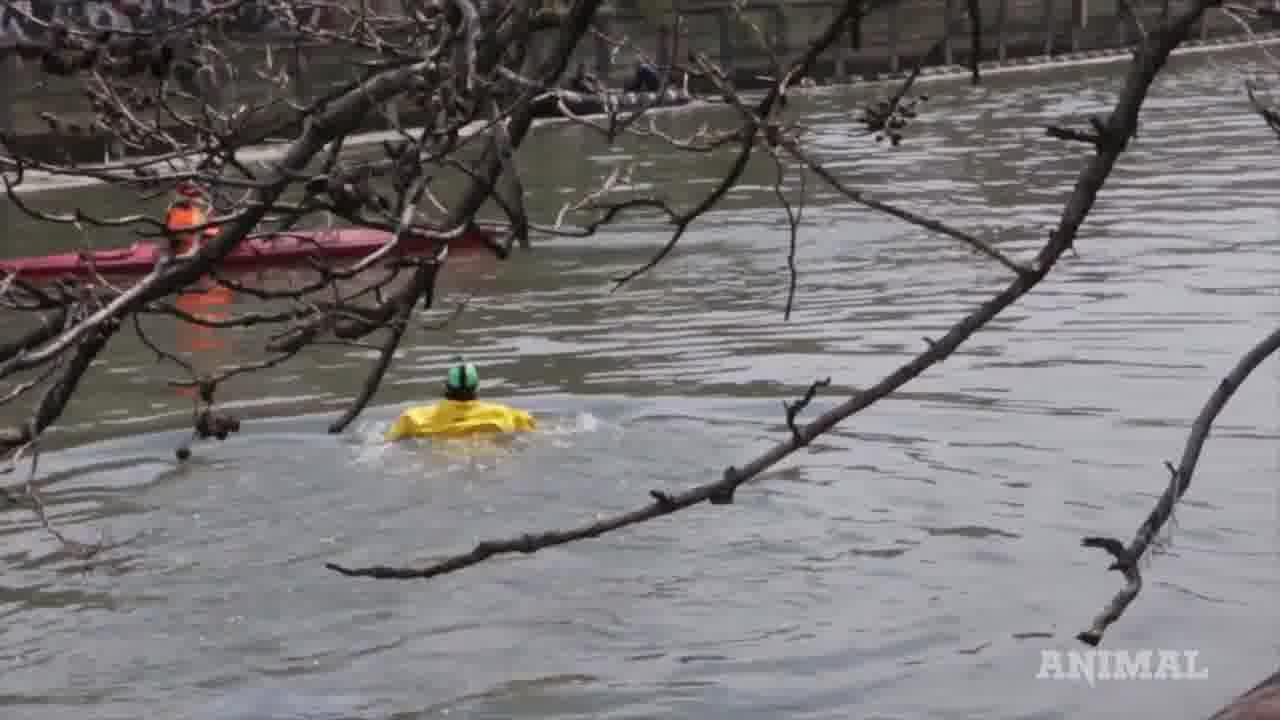swimmer: (411, 346, 527, 458)
